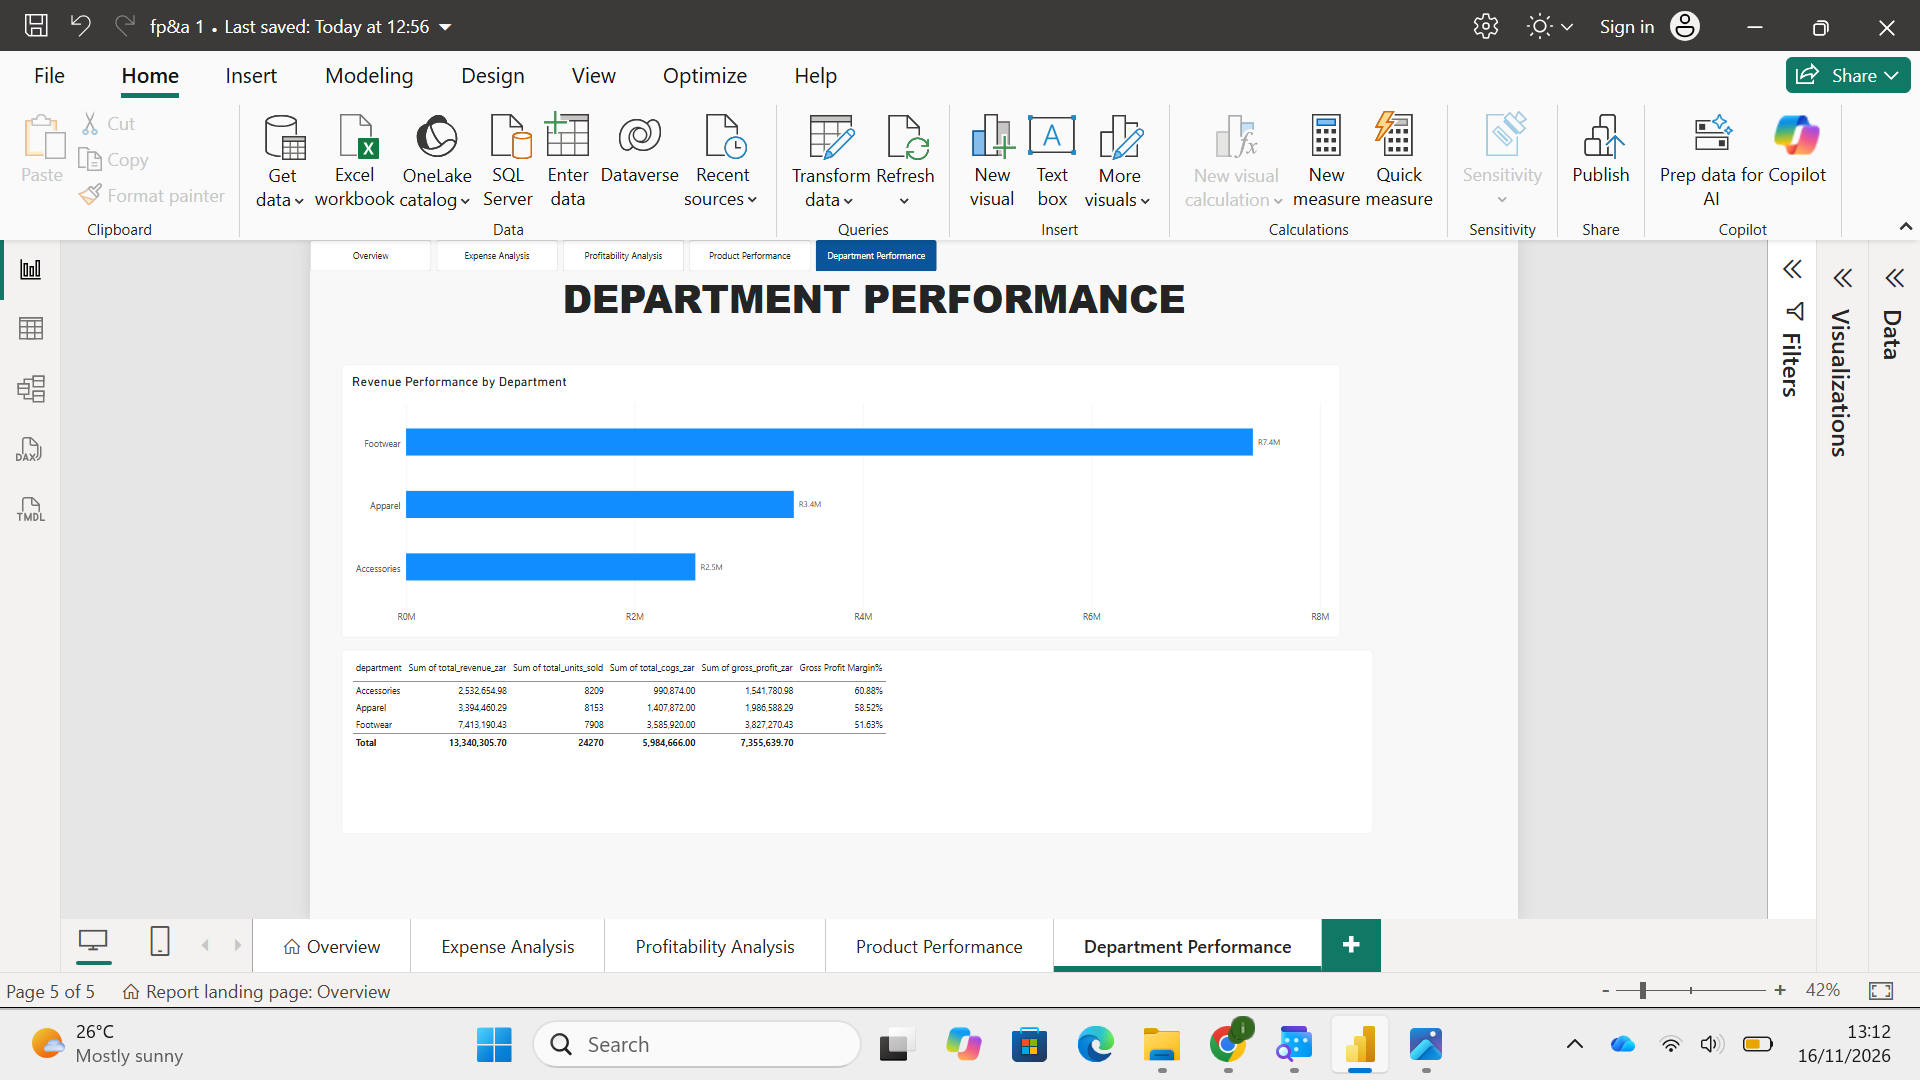

What the dashboard file says about the page in this screenshot:
{"tool":"powerbi","page":{"name":"Department Performance","canvas":[1920,1080],"ordinal":4},"visuals":[{"type":"clusteredBarChart","title":"Revenue Performance by Department","fields":{"Category":["Department Performance.department"],"Y":["Sum(Department Performance.total_revenue_zar)"]},"box":[50.1,200.4,1641.5,434.2],"z":0},{"type":"tableEx","fields":{"Values":["Query1.department","Sum(Query1.total_revenue_zar)","Sum(Query1.total_units_sold)","Sum(Query1.total_cogs_zar)","Sum(Query1.gross_profit_zar)","Sum(Query1.gross_profit_margin_pct)"]},"box":[50.1,663.3,1641.5,357.9],"z":1},{"type":"actionButton","box":[0,0,100,40],"z":2},{"type":"textbox","title":"DEPARTMENT PERFORMANCE","box":[100.2,71.6,1589,150],"z":3},{"type":"pageNavigator","box":[0,0,1000,50],"z":4}]}

Visuals, with their boxes on the page's 1920x1080 design canvas (x1, y1, x2, y2). These are canvas units, not pixel positions in the 1920x1080 screenshot, which may show the page scaled, cropped or inside an application window:
"Revenue Performance by Department" clusteredBarChart: 50/200/1692/635
tableEx - Query1.department x Sum(Query1.total_revenue_zar): 50/663/1692/1021
actionButton: 0/0/100/40
"DEPARTMENT PERFORMANCE" textbox: 100/72/1689/222
pageNavigator: 0/0/1000/50
